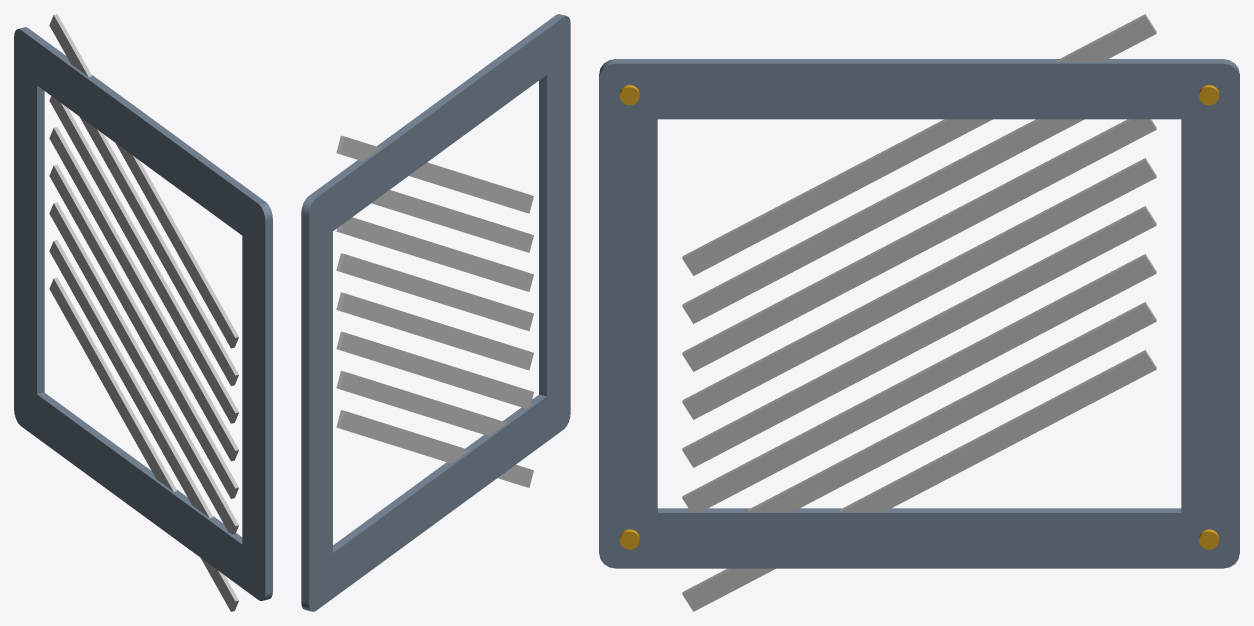
Rendered from vent_grille.glb.
3 views of the same model, side by side, from view 1: azimuth 30°, elevation 25°; view 2: azimuth 150°, elevation 25°; view 3: azimuth 270°, elevation 25° (orthographic). The views are drawn at different scales.
Size of the model in its own units: 0.03 by 1.18 by 1.15.
